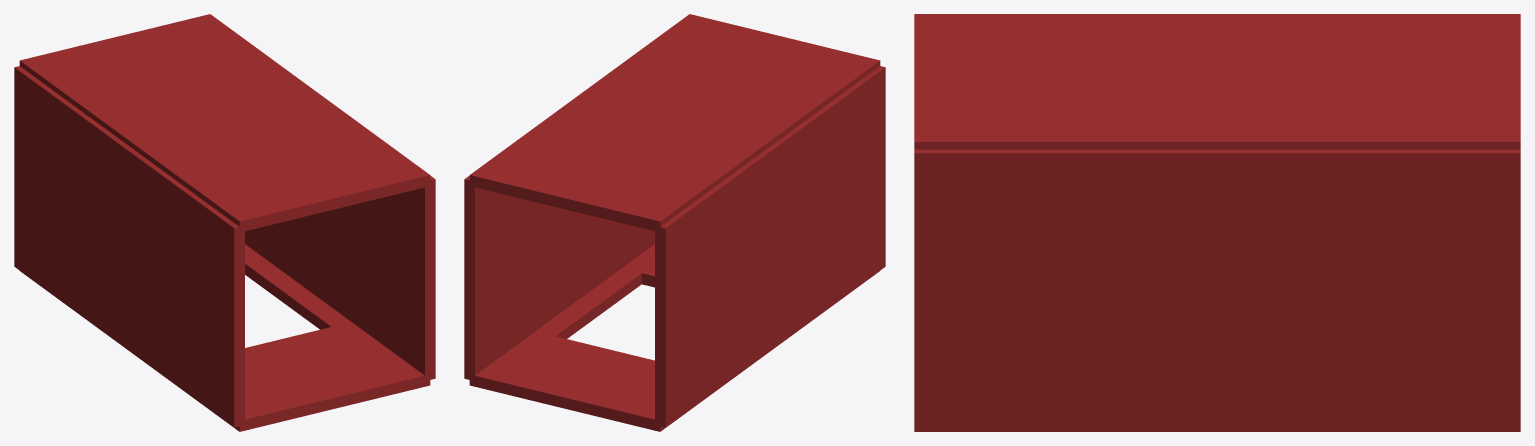
File: nil_link_mesh.dae
The picture shows the model from 3 angles, left to right: view 1: azimuth 30°, elevation 25°; view 2: azimuth 150°, elevation 25°; view 3: azimuth 270°, elevation 25°; orthographic projection. The views are drawn at different scales.
Visible parts, largest first — view 1: nil_link (×4); view 2: nil_link (×4); view 3: nil_link (×3).
Boxes of the visible parts, bbox=[...] form: nil_link (×4): bbox=[14, 14, 435, 431]; nil_link (×4): bbox=[464, 14, 885, 431]; nil_link (×3): bbox=[914, 14, 1520, 431].
Bounding box in the file's own units: 0.95 × 0.95 × 1.8.
